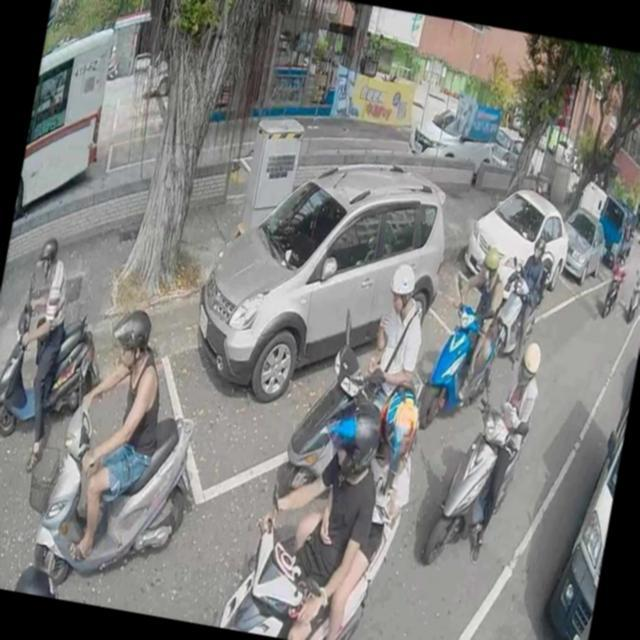person: (233, 382, 394, 640), (275, 367, 424, 640), (49, 294, 179, 576), (460, 327, 544, 568), (0, 231, 86, 461), (354, 256, 434, 424), (441, 231, 512, 403), (501, 232, 555, 366), (14, 551, 61, 597), (603, 248, 628, 311), (104, 46, 118, 75), (632, 260, 640, 296)
